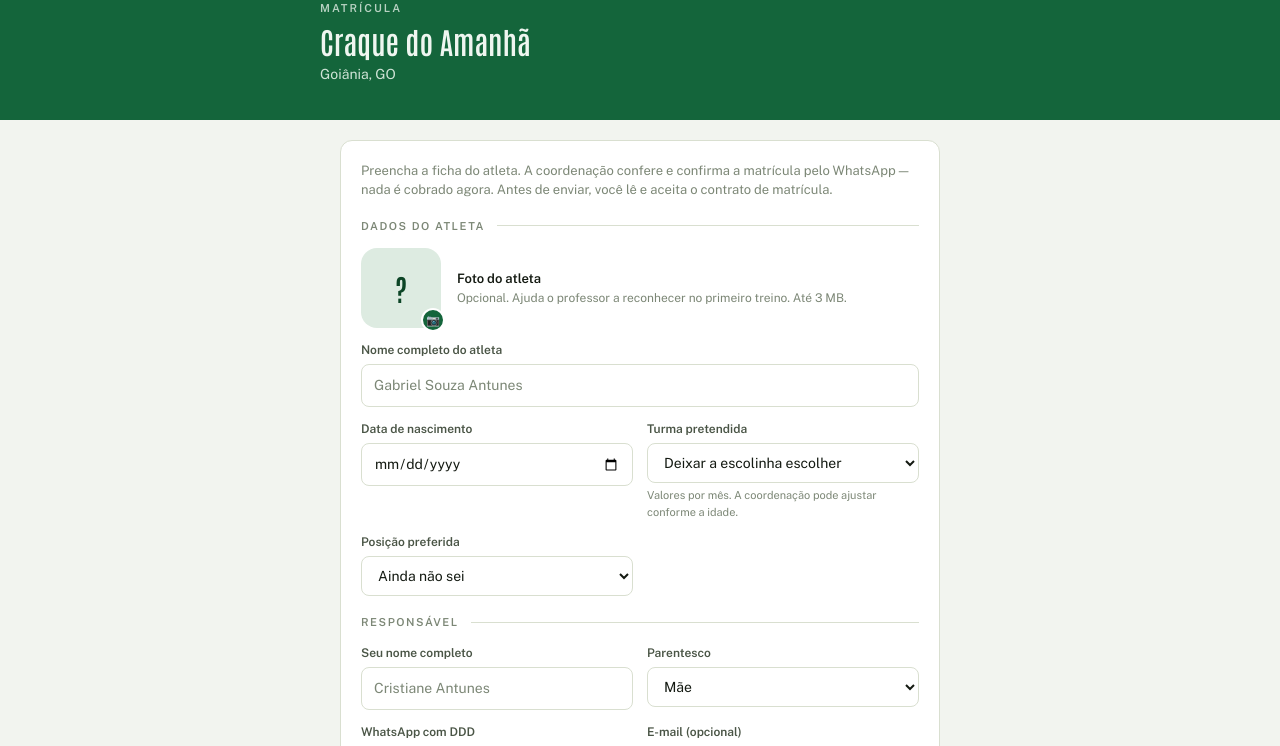
Test: matrícula pública › com contrato: pede o CPF, mostra o texto e só envia depois do aceite
Type "Gabriel Souza" into the field labelled "Nome completo do atleta" at (640,386), box [361,364,919,407]
Type "Cristiane Souza" into the field labelled "Seu nome completo" at (497,688), box [361,666,633,710]
(page scrolled)
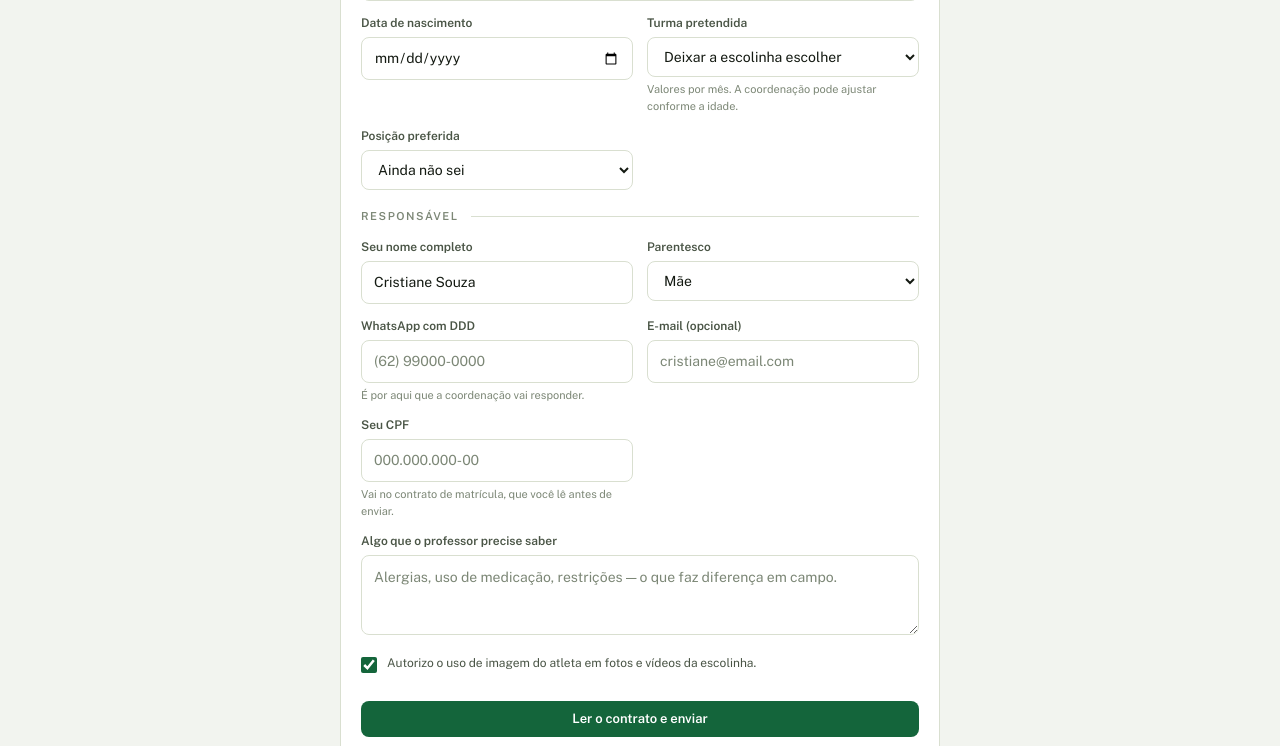
Type "62990001122" into the field labelled "WhatsApp com DDD É por aqui que a coordenação vai responder." at (497,361), box [361,340,633,382]
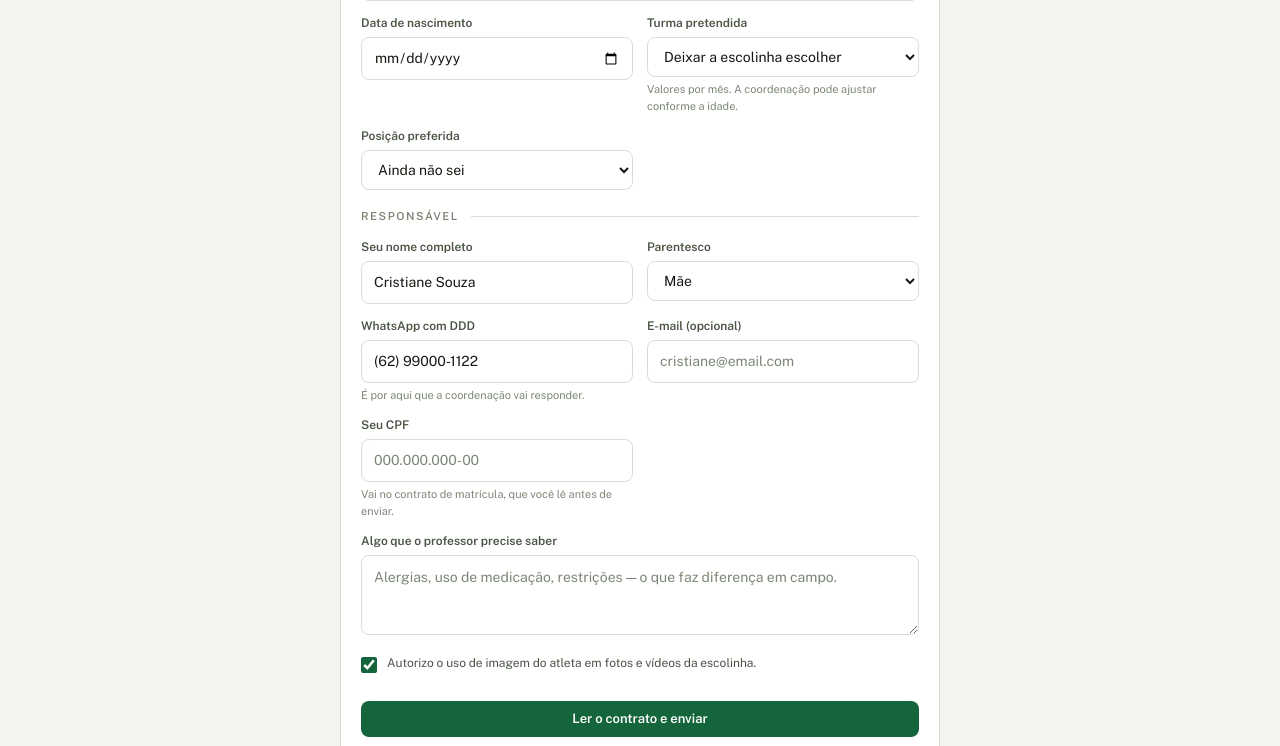
Type "529.982.247-25" into the field labelled "Seu CPF" at (497,460), box [361,439,633,482]
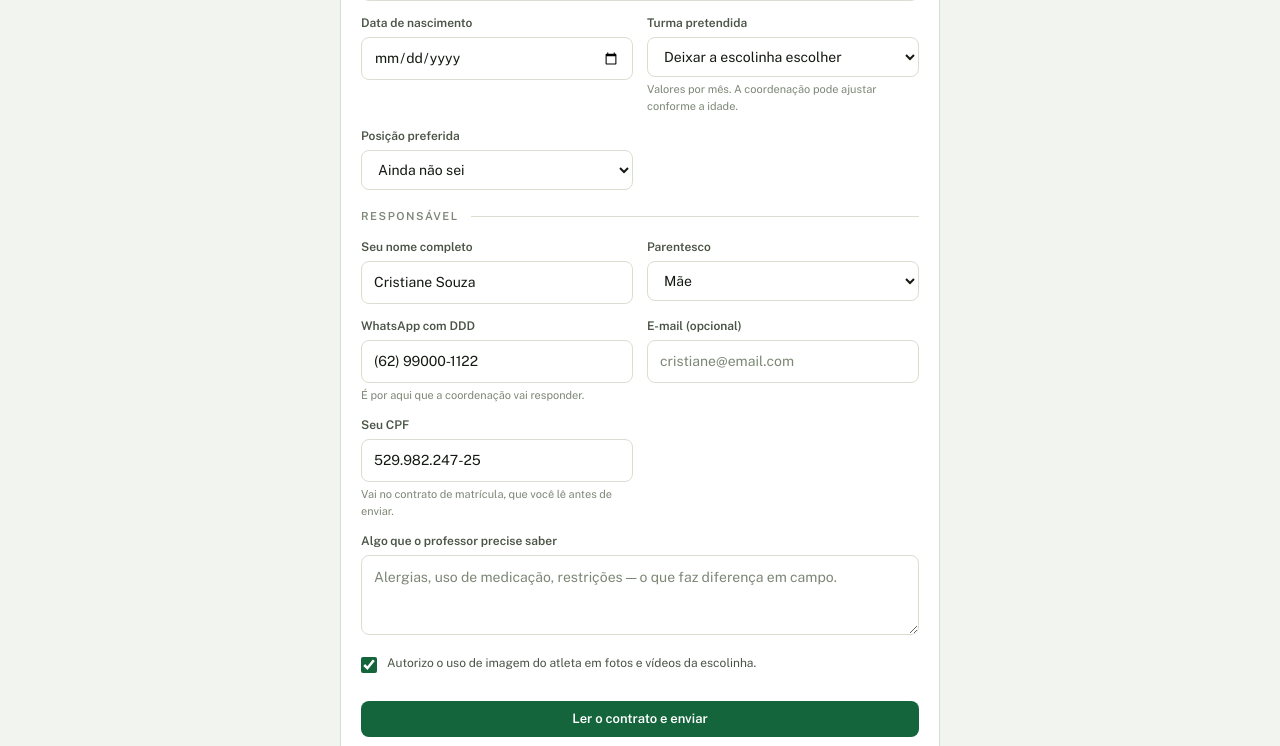
Click the button "Ler o contrato e enviar" at (640,719), box [361,701,919,737]
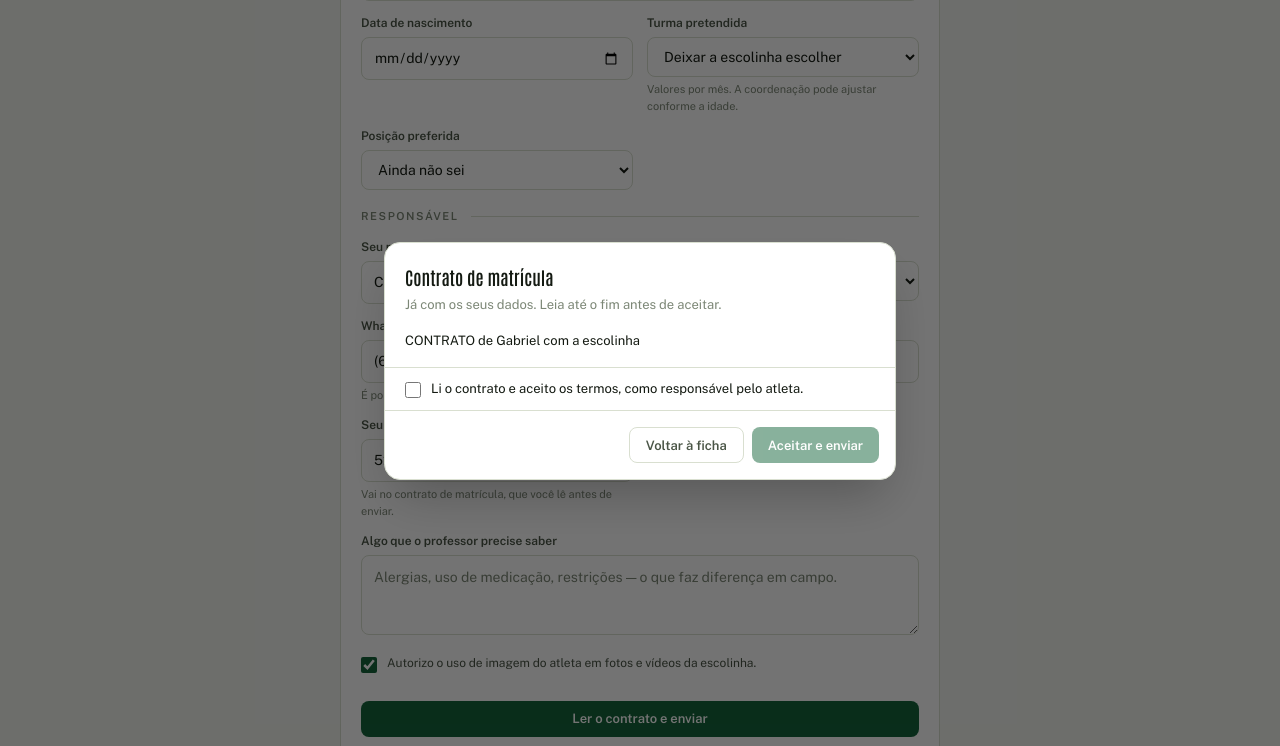
Now the text "CONTRATO de Gabriel com a escolinha" is shown, box [405,333,640,348]
Now the button "Aceitar e enviar" is disabled, box [752,427,879,463]
Click the checkbox labelled "Li o contrato e aceito" at (413,390), box [405,382,421,398]
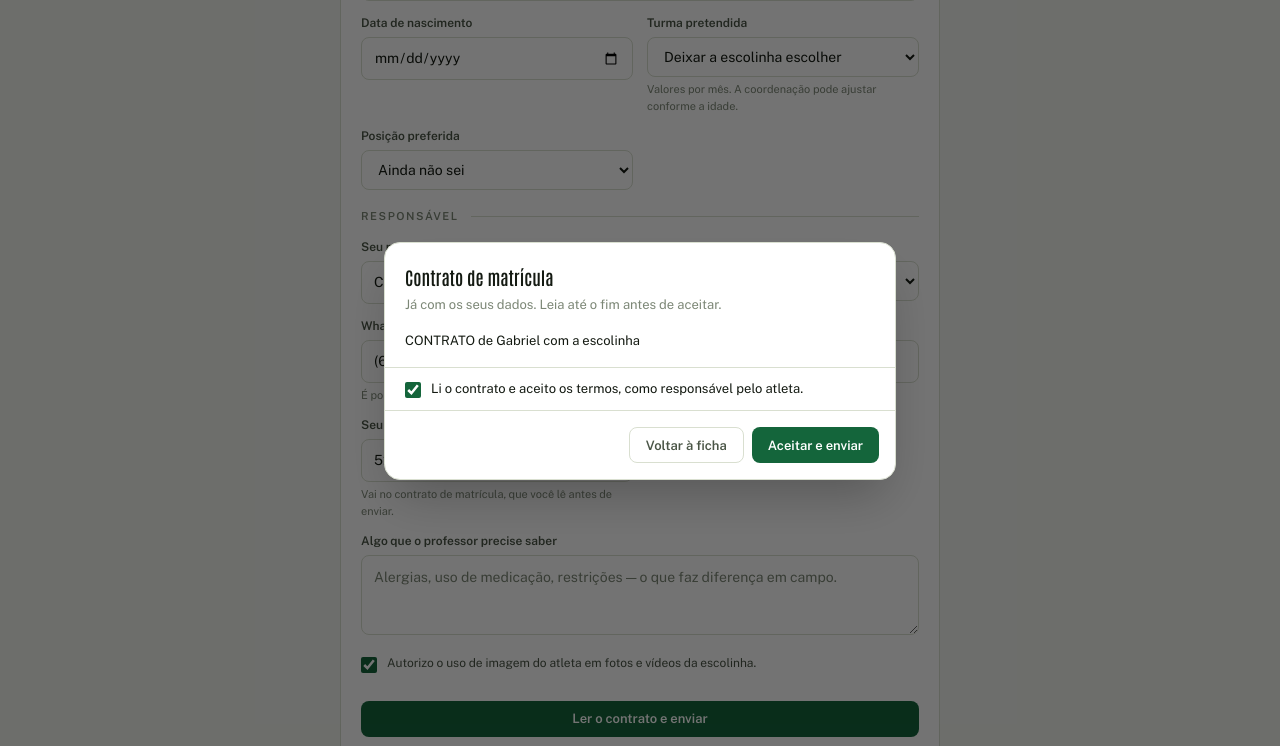
Click the button "Aceitar e enviar" at (815,445), box [752,427,879,463]
(page scrolled)
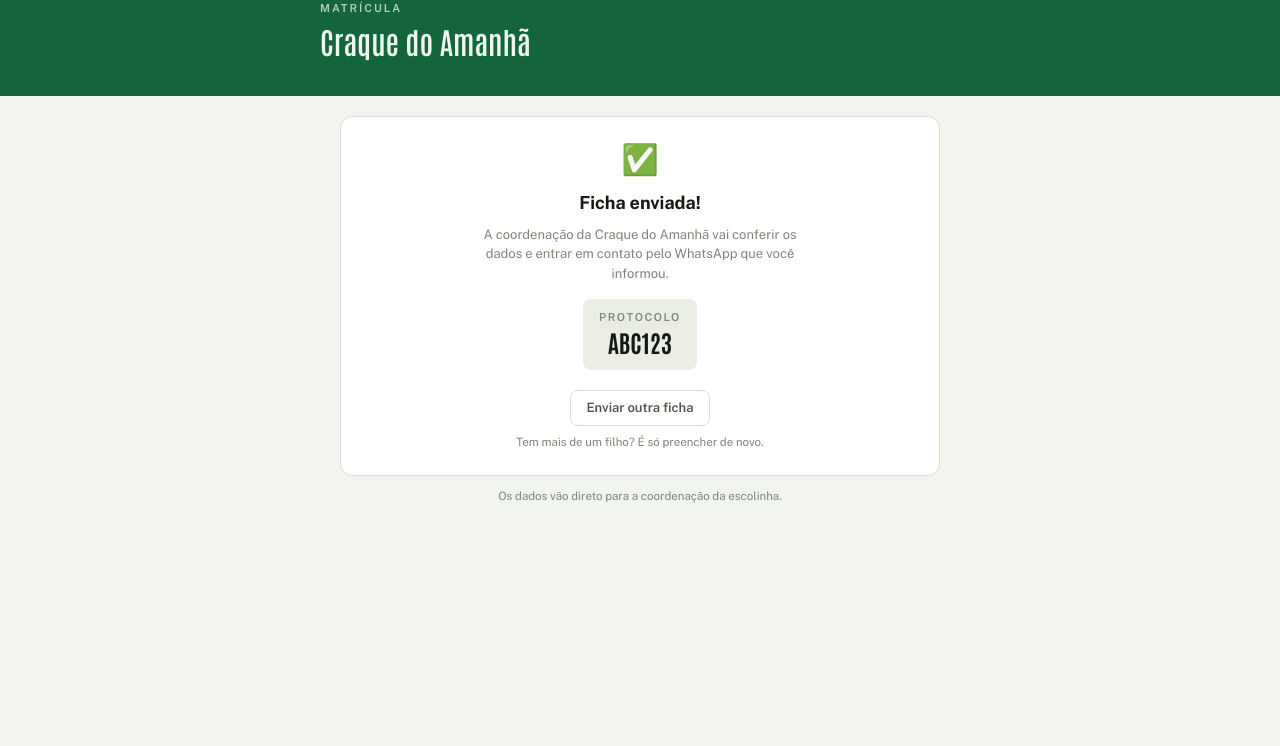
Now the text "Ficha enviada!" is shown, box [579,192,701,212]
